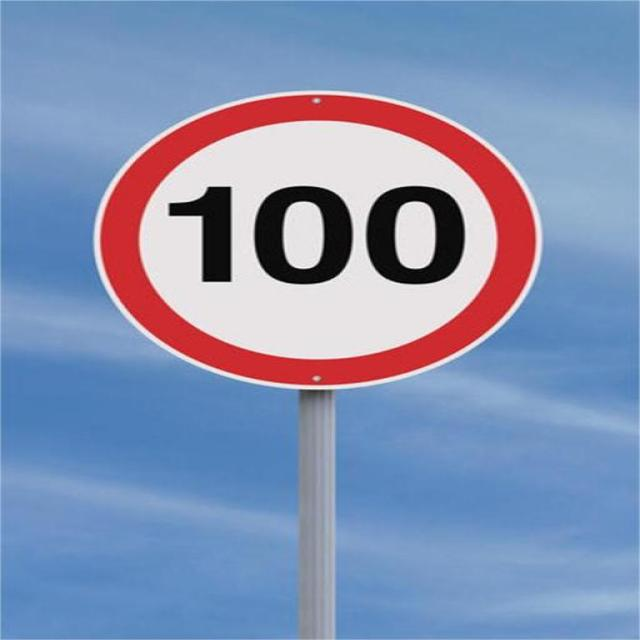speed limit 100: (90, 90, 542, 389)
